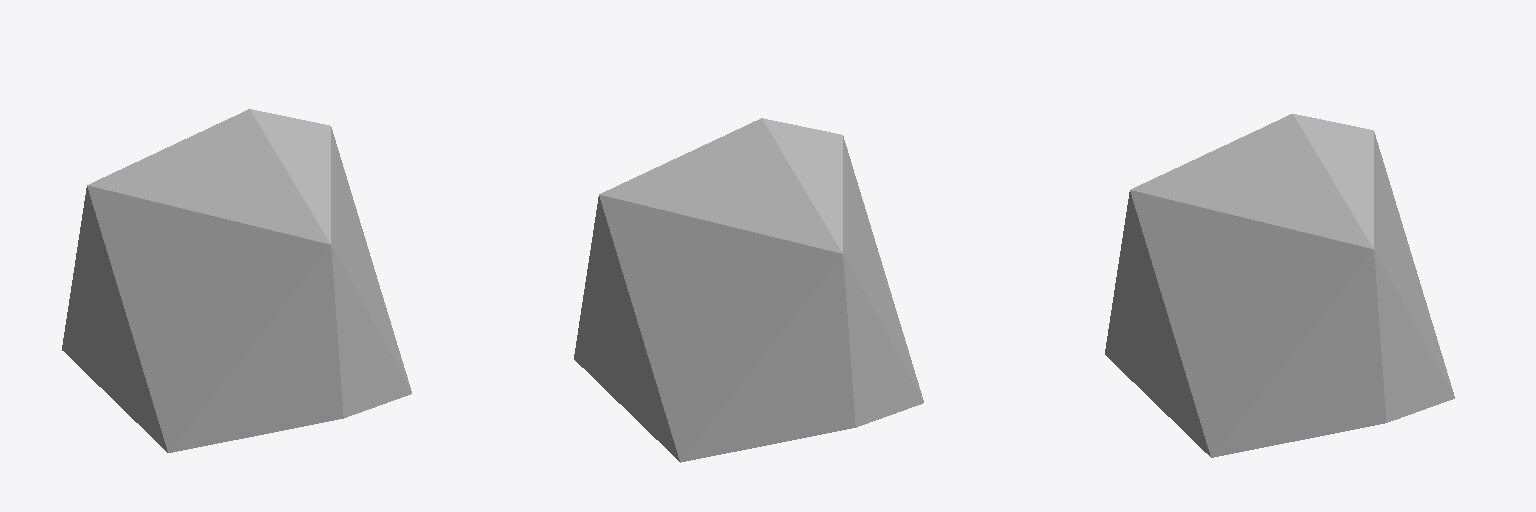
The model's file is GeoSphere16.obj.
The picture shows the model from 3 angles: view 1: azimuth 30°, elevation 25°; view 2: azimuth 150°, elevation 25°; view 3: azimuth 270°, elevation 25°; orthographic projection.
Parts seen in each view (by area): view 1: GD_mesh.016; view 2: GD_mesh.016; view 3: GD_mesh.016.
Boxes of the visible parts, <box> form: GD_mesh.016: <box>62,109,411,452</box>; GD_mesh.016: <box>574,118,923,462</box>; GD_mesh.016: <box>1105,114,1454,457</box>.
Bounding box in the file's own units: 1.63 × 1.58 × 1.76.